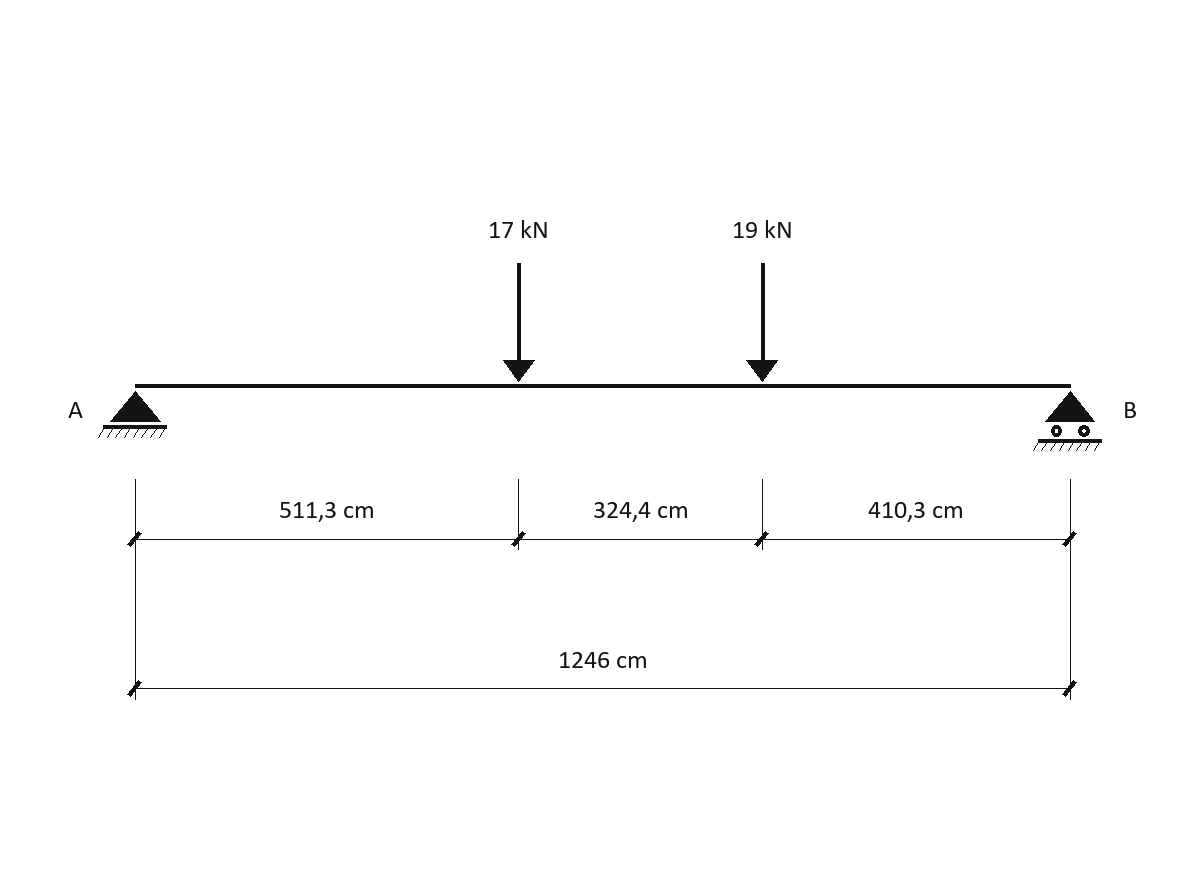pin_support: (98, 391, 167, 438)
point_load: (503, 263, 535, 382), (746, 263, 778, 382)
roller_support: (1033, 391, 1102, 451)
